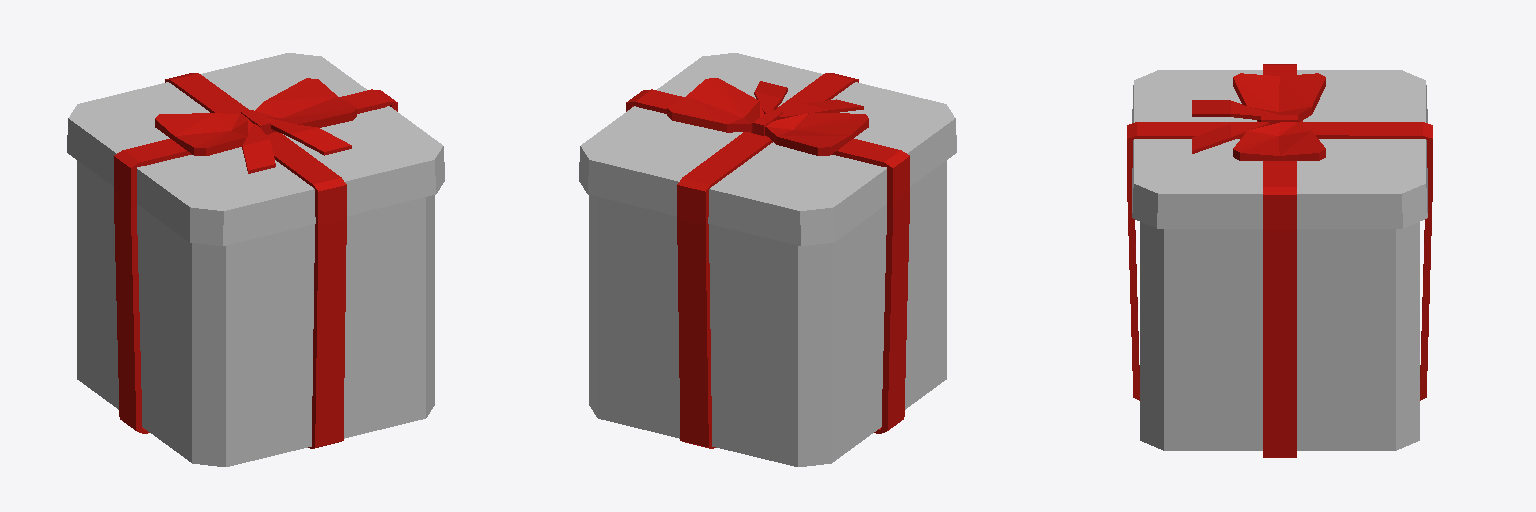
Rendered from Present.obj.
3 views of the same model, side by side, from view 1: azimuth 30°, elevation 25°; view 2: azimuth 150°, elevation 25°; view 3: azimuth 270°, elevation 25° (orthographic).
Visible parts, largest first — view 1: Present_Cube.001; view 2: Present_Cube.001; view 3: Present_Cube.001.
Part boxes in pixels (x1,y1,x2,y2): Present_Cube.001: (67, 53, 444, 466); Present_Cube.001: (579, 53, 956, 466); Present_Cube.001: (1127, 64, 1432, 457).
Bounding box in the file's own units: 0.6125 × 0.6249 × 0.6077.